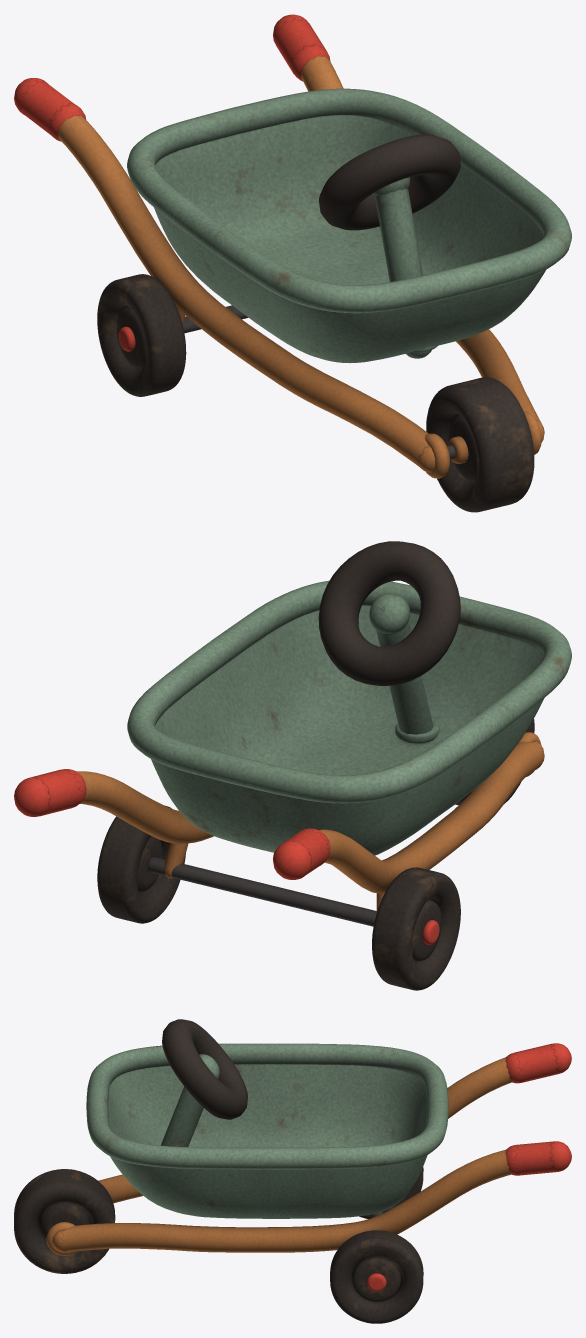
Rendered from kart.glb.
3 views of the same model, one above another, from view 1: azimuth 30°, elevation 25°; view 2: azimuth 150°, elevation 25°; view 3: azimuth 270°, elevation 25° (orthographic). The views are drawn at different scales.
Parts seen in each view (by area): view 1: body, wheel_F, wheel_RR, steering_wheel; view 2: body, steering_wheel, wheel_RR, wheel_RL; view 3: body, wheel_RL, wheel_F, steering_wheel.
Part boxes in pixels (x1,y1,x2,y2): body: (14,14,571,478); wheel_F: (426,377,534,512); wheel_RR: (97,274,186,396); steering_wheel: (319,134,460,230); body: (14,580,571,926); steering_wheel: (318,541,460,685); wheel_RR: (372,867,460,990); wheel_RL: (97,805,185,923); body: (46,1043,571,1255); wheel_RL: (330,1230,423,1323); wheel_F: (14,1169,115,1273); steering_wheel: (162,1019,247,1119).
Size of the model in its own units: 0.7156 by 0.6832 by 1.43.
1 material, 1 textured.
